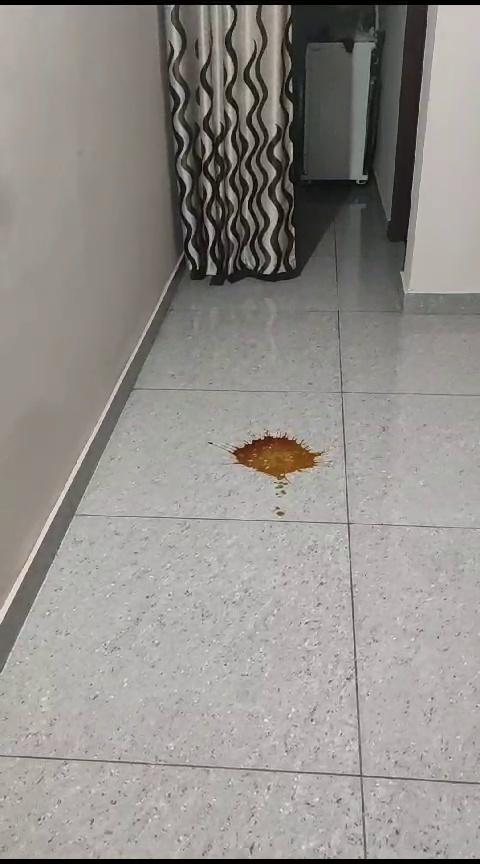dirty_floor: (211, 425, 327, 521)
